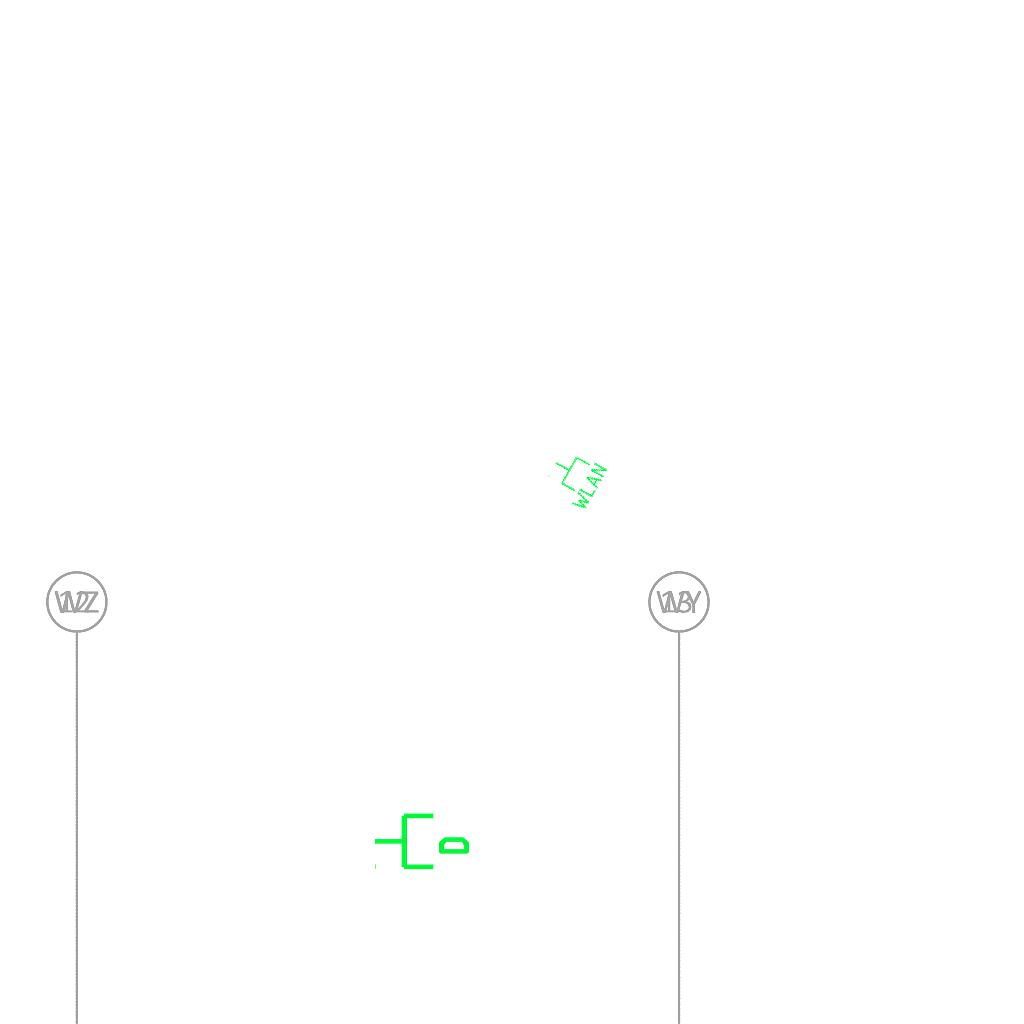Datenanschluss_einfach: (372, 805, 472, 874)
WLAN: (539, 443, 611, 515)
